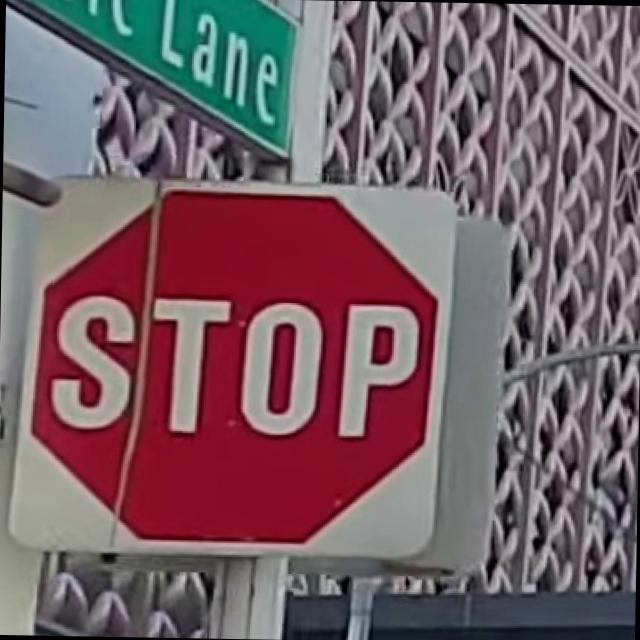mandatorystop_sign: (2, 169, 486, 573)
